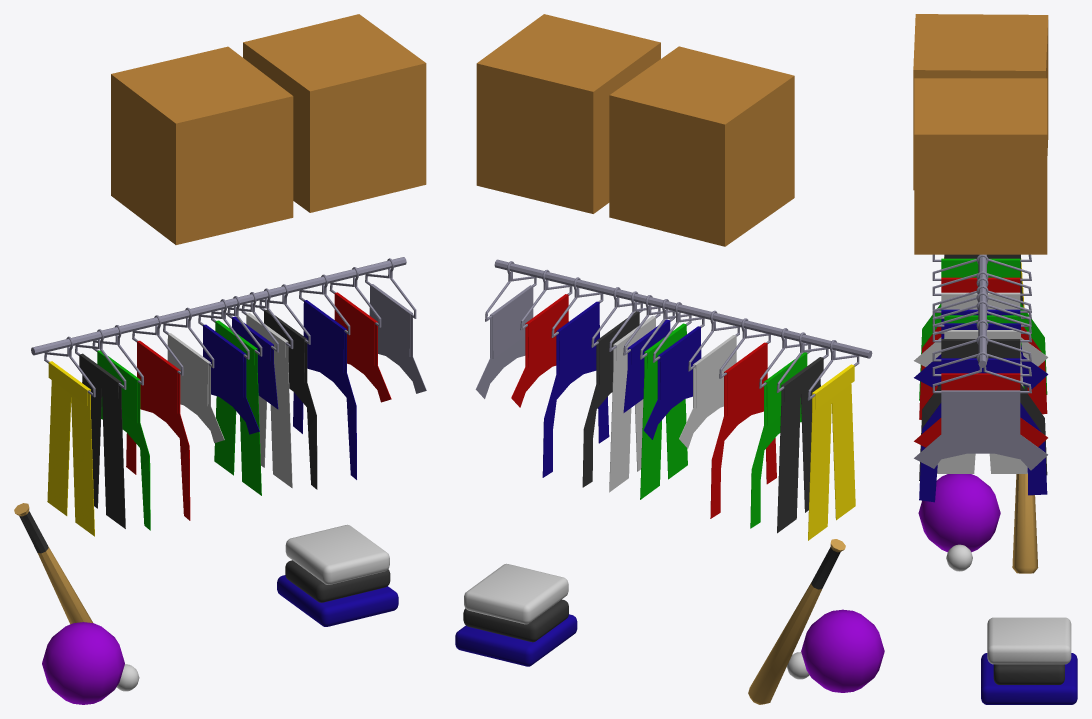
The model's file is charliroom_relleno_armario.fbx.
The picture shows the model from 3 angles, left to right: view 1: azimuth 30°, elevation 25°; view 2: azimuth 150°, elevation 25°; view 3: azimuth 270°, elevation 25°; orthographic projection.
Parts seen in each view (by area): view 1: rellenoarmariocharili; view 2: rellenoarmariocharili; view 3: rellenoarmariocharili.
Boxes of the visible parts, box(x1,y1,x2,y2) form: rellenoarmariocharili: box(14, 14, 426, 704); rellenoarmariocharili: box(455, 14, 884, 704); rellenoarmariocharili: box(913, 14, 1077, 704).
Size of the model in its own units: 101 by 150 by 39.12.
